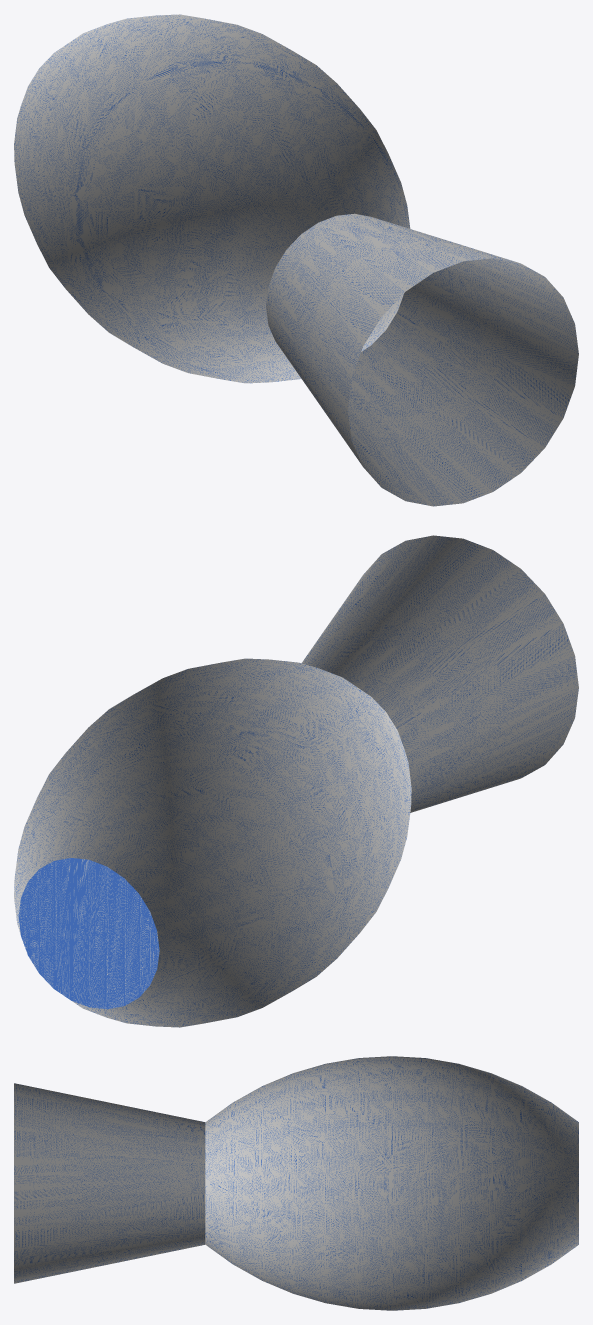
File: model_scale.obj
3 renders of one model, top to bottom at view 1: azimuth 30°, elevation 25°; view 2: azimuth 150°, elevation 25°; view 3: azimuth 270°, elevation 25°, orthographic. The views are drawn at different scales.
Visible parts, largest first — view 1: mesh1_mesh1-geometry; view 2: mesh1_mesh1-geometry; view 3: mesh1_mesh1-geometry.
Boxes of the visible parts, x1,y1,x2,y2 form: mesh1_mesh1-geometry: [14, 14, 578, 506]; mesh1_mesh1-geometry: [14, 535, 578, 1027]; mesh1_mesh1-geometry: [14, 1056, 578, 1310].
Bounding box in the file's own units: 0.0674 × 0.0674 × 0.1489.
